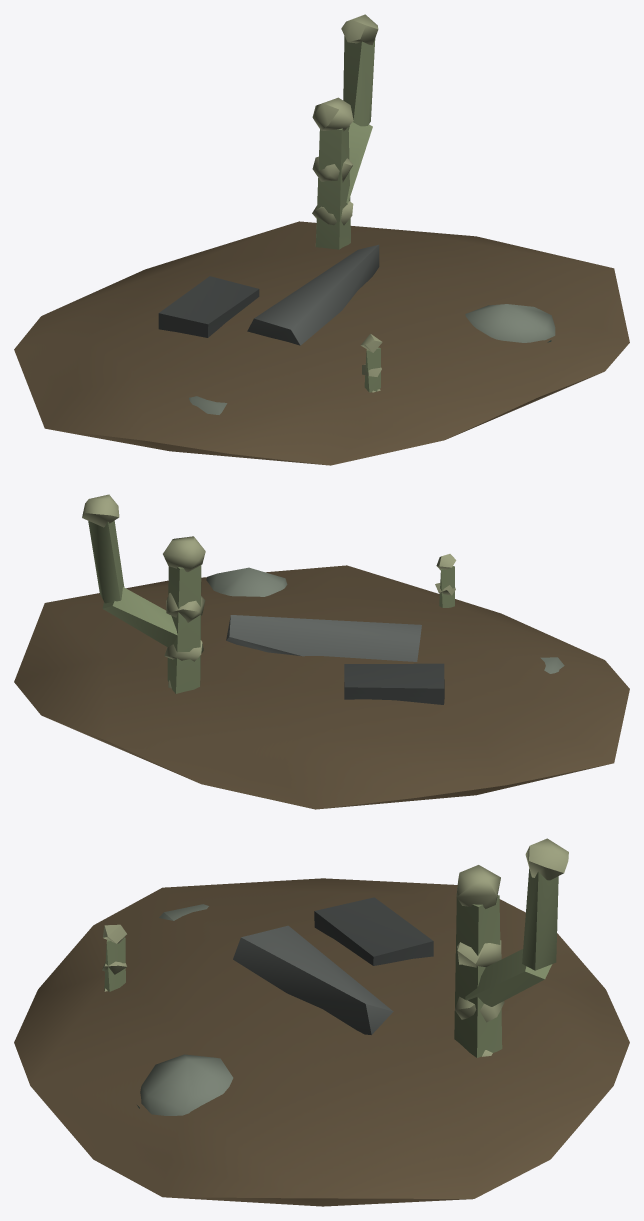
Rendered from rock_bucket_b_lod2.glb.
The picture shows the model from 3 angles, top to bottom: view 1: azimuth 30°, elevation 25°; view 2: azimuth 150°, elevation 25°; view 3: azimuth 270°, elevation 25°; orthographic projection. The views are drawn at different scales.
Parts seen in each view (by area): view 1: Surface.001; view 2: Surface.001; view 3: Surface.001.
Part boxes in pixels (x1,y1,x2,y2): Surface.001: [14, 14, 629, 465]; Surface.001: [14, 494, 629, 809]; Surface.001: [14, 838, 629, 1206].
Bounding box in the file's own units: 3.07 × 1.4 × 2.37.
